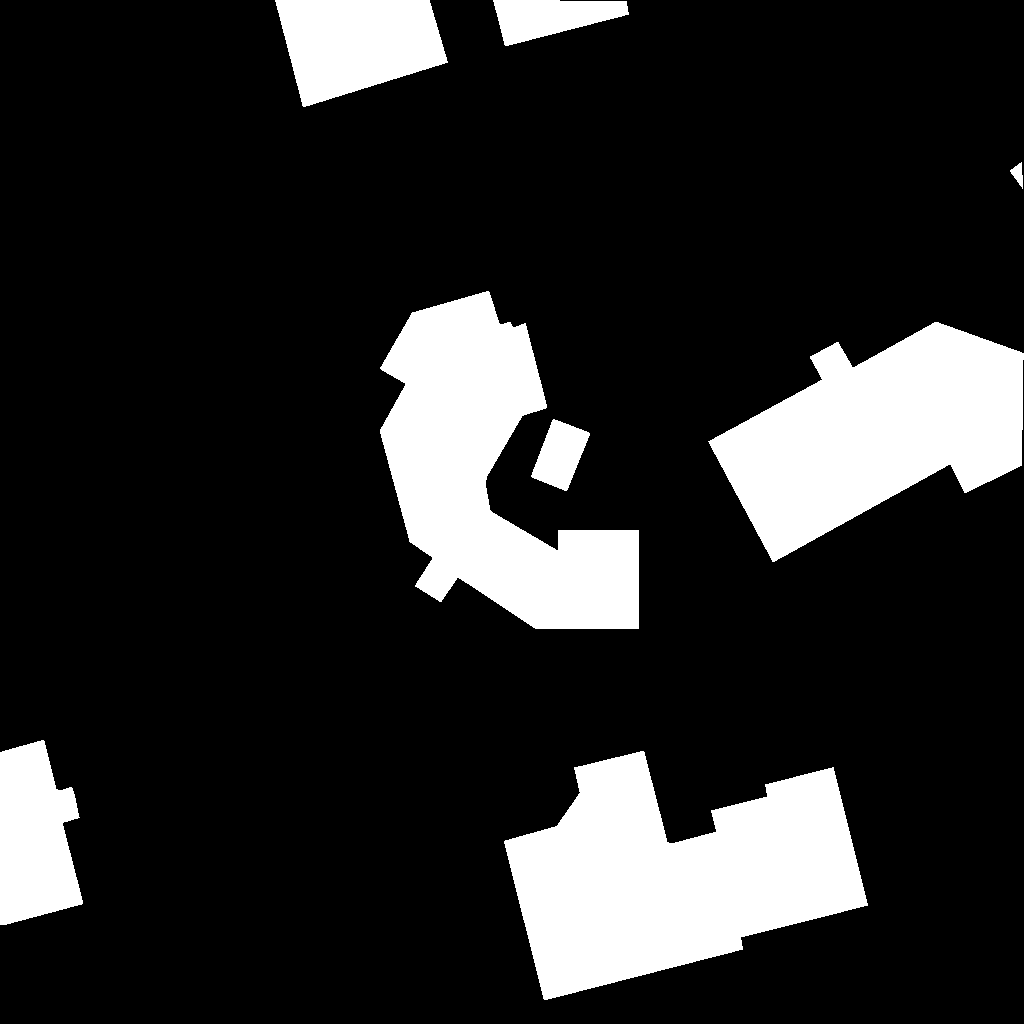building: (504, 751, 869, 1001), (380, 291, 640, 629), (708, 322, 1024, 563), (275, 0, 449, 108), (0, 740, 84, 926), (493, 0, 630, 47), (531, 419, 591, 492), (1010, 162, 1024, 190)
